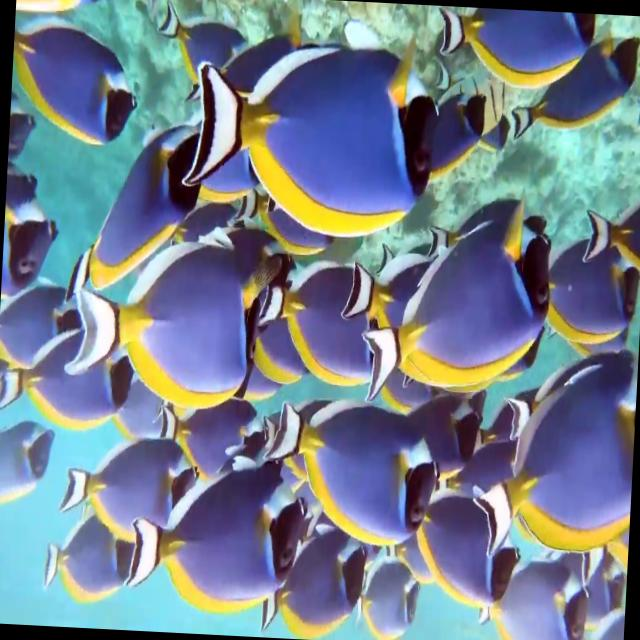fish: (178, 40, 446, 246), (339, 187, 557, 435), (54, 238, 268, 418), (475, 344, 639, 558), (120, 451, 314, 626), (264, 384, 453, 558), (57, 121, 216, 311), (404, 464, 529, 632), (9, 19, 158, 151), (252, 257, 380, 408), (52, 432, 198, 564), (432, 6, 601, 109), (512, 24, 640, 158), (0, 324, 124, 440), (531, 227, 640, 354), (255, 527, 372, 640), (549, 230, 640, 368), (33, 511, 144, 614), (475, 547, 587, 640), (173, 399, 266, 504), (152, 0, 238, 113), (567, 183, 640, 302), (337, 558, 427, 640), (0, 408, 56, 532), (418, 384, 487, 478), (1, 210, 68, 298)
